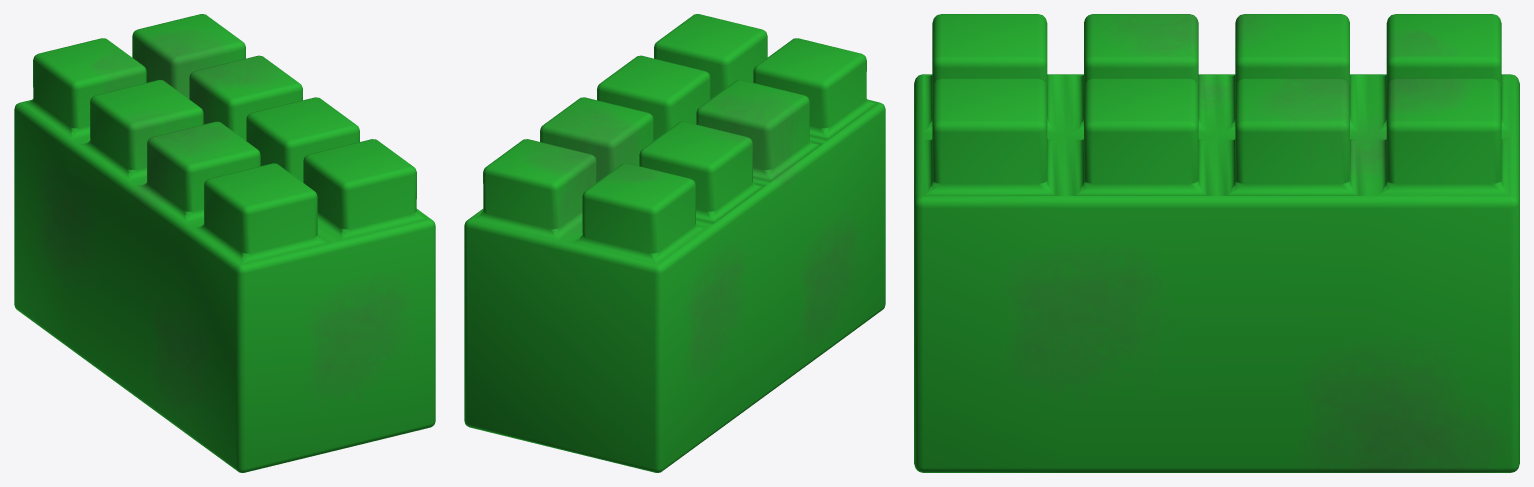
Rendered from 8block.fbx.
3 renders of one model, left to right at view 1: azimuth 30°, elevation 25°; view 2: azimuth 150°, elevation 25°; view 3: azimuth 270°, elevation 25°, orthographic. The views are drawn at different scales.
Visible parts, largest first — view 1: Cube.005; view 2: Cube.005; view 3: Cube.005.
Part boxes in pixels (x1,y1,x2,y2): Cube.005: (14,14,435,472); Cube.005: (464,14,885,472); Cube.005: (914,14,1519,472).
Size of the model in its own units: 119 by 149 by 237.
